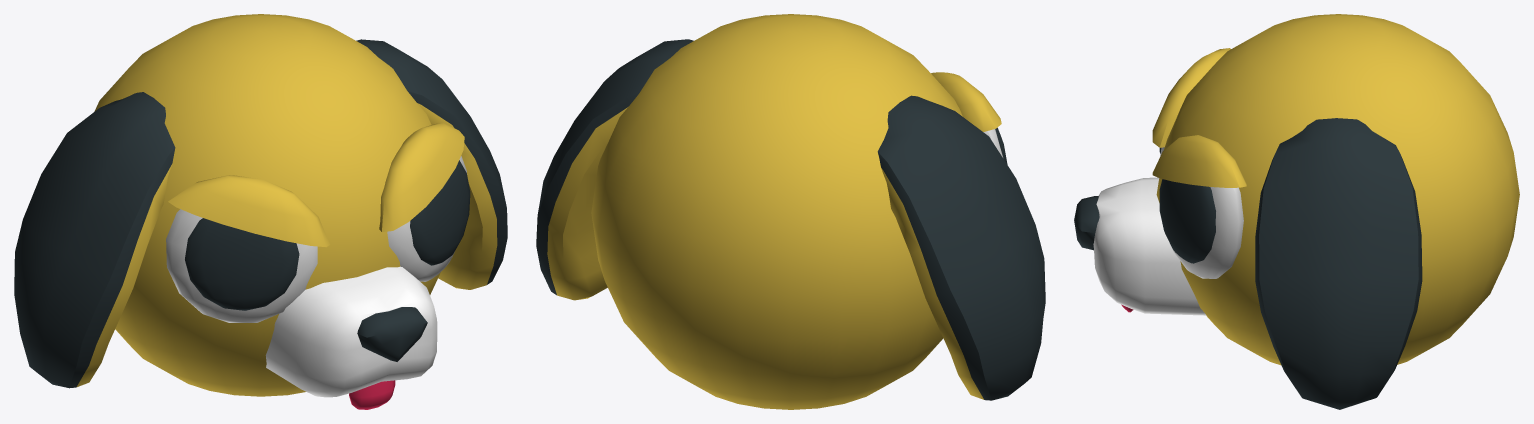
File: Pupper.fbx
The picture shows the model from 3 angles, left to right: view 1: azimuth 30°, elevation 25°; view 2: azimuth 150°, elevation 25°; view 3: azimuth 270°, elevation 25°; orthographic projection. The views are drawn at different scales.
Parts seen in each view (by area): view 1: character_dogHead, Sphere_2, Sphere_1, Sphere; view 2: character_dogHead, Sphere_2; view 3: character_dogHead, Sphere_2, Sphere_1, Sphere.
Boxes of the visible parts, <box> form: character_dogHead: <box>14,14,507,409</box>; Sphere_2: <box>168,123,464,247</box>; Sphere_1: <box>185,160,470,310</box>; Sphere: <box>166,156,467,322</box>; character_dogHead: <box>536,14,1045,409</box>; Sphere_2: <box>931,72,1001,131</box>; character_dogHead: <box>1074,14,1519,409</box>; Sphere_2: <box>1152,48,1246,187</box>; Sphere_1: <box>1159,147,1215,263</box>; Sphere: <box>1160,147,1243,278</box>.
Size of the model in its own units: 139 by 93.39 by 123.
